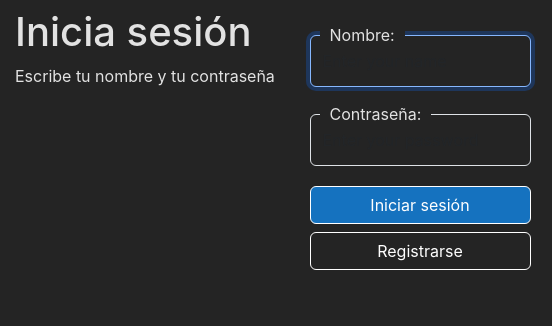
Test: shows error message on API error
The width and height of the screenshot is (552, 326).
Type "testuser" into the field with placeholder "Enter your name". click: {"x": 420, "y": 61}
box: [310, 35, 530, 87]
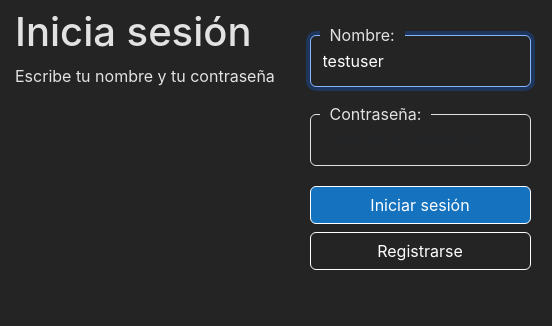
Type "Password123!" into the password field with placeholder "Enter your password". click: {"x": 420, "y": 140}
box: [310, 114, 530, 166]
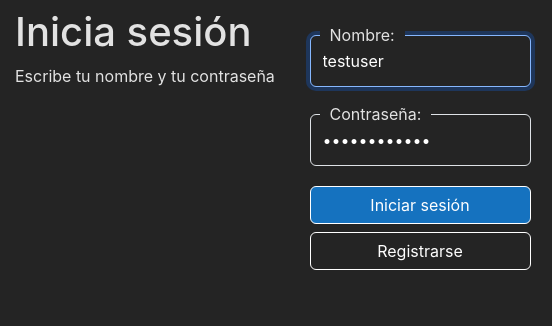
Click the button "Iniciar sesión". click: {"x": 420, "y": 205}
box: [310, 186, 530, 224]
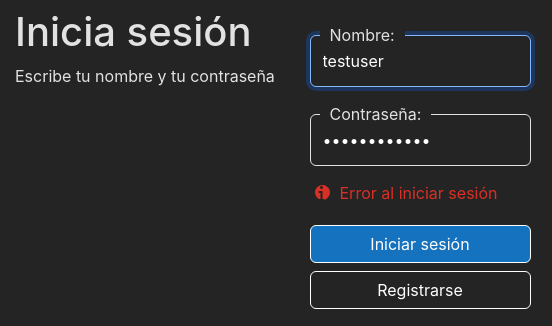
Now the text "Error al iniciar sesión" is shown, box [314, 183, 498, 203]
